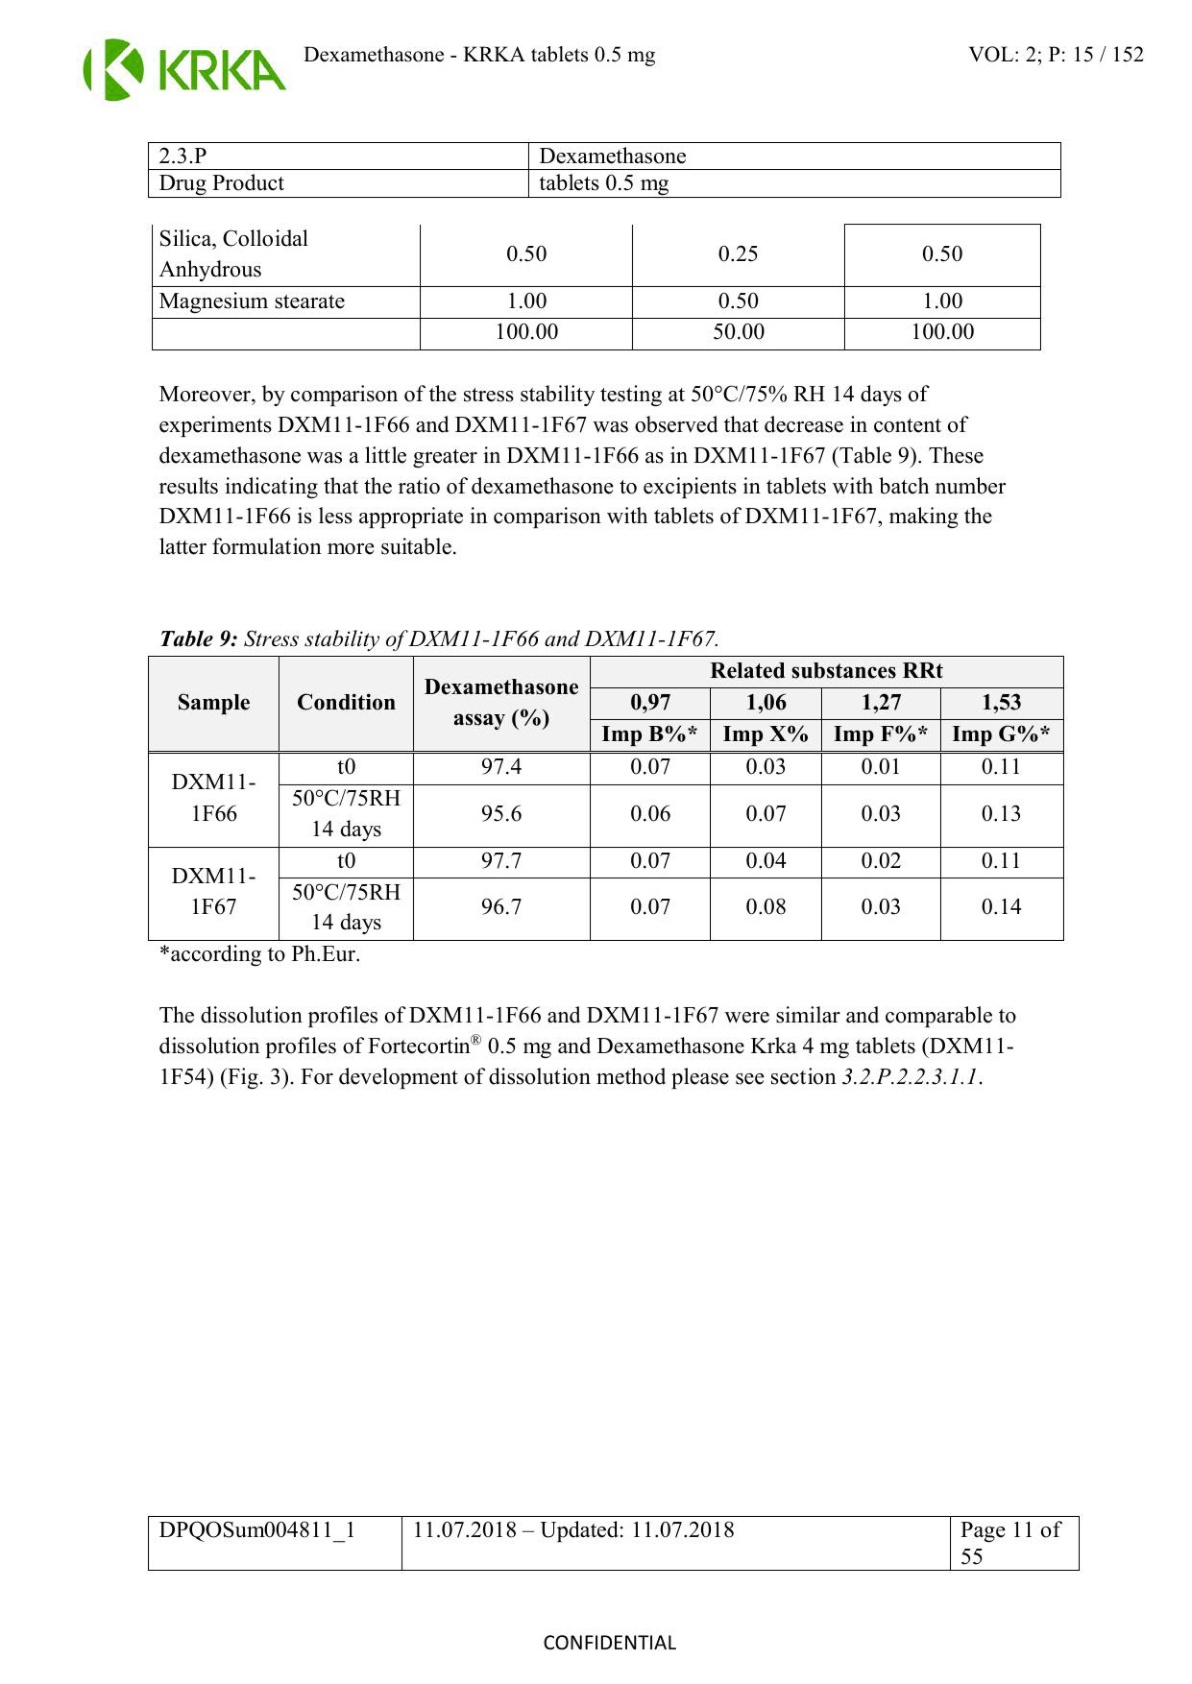full_lined: (146, 141, 1062, 199)
merged_cells: (144, 652, 1066, 943)
partial_lined: (150, 222, 1042, 352)
